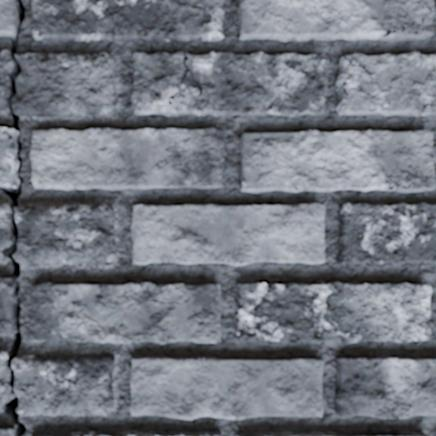brick: (131, 52, 327, 115), (130, 356, 322, 419), (240, 130, 433, 192), (131, 203, 324, 264), (31, 128, 223, 189), (237, 282, 431, 342), (30, 282, 220, 343), (31, 0, 223, 42), (238, 0, 433, 41), (336, 51, 435, 115), (335, 357, 435, 418), (338, 203, 435, 264), (0, 127, 17, 186), (0, 277, 15, 334), (32, 431, 221, 435), (237, 431, 426, 435), (396, 173, 435, 191), (0, 0, 16, 35), (0, 425, 13, 435), (426, 0, 433, 9)
broken_brick: (13, 51, 116, 117), (13, 353, 115, 416), (15, 203, 116, 265), (0, 47, 12, 110), (0, 349, 11, 410), (0, 202, 10, 248), (0, 253, 6, 262)
crack: (0, 0, 27, 435), (380, 0, 435, 37), (167, 51, 204, 105), (382, 153, 435, 190), (343, 54, 373, 75), (215, 164, 224, 173)
